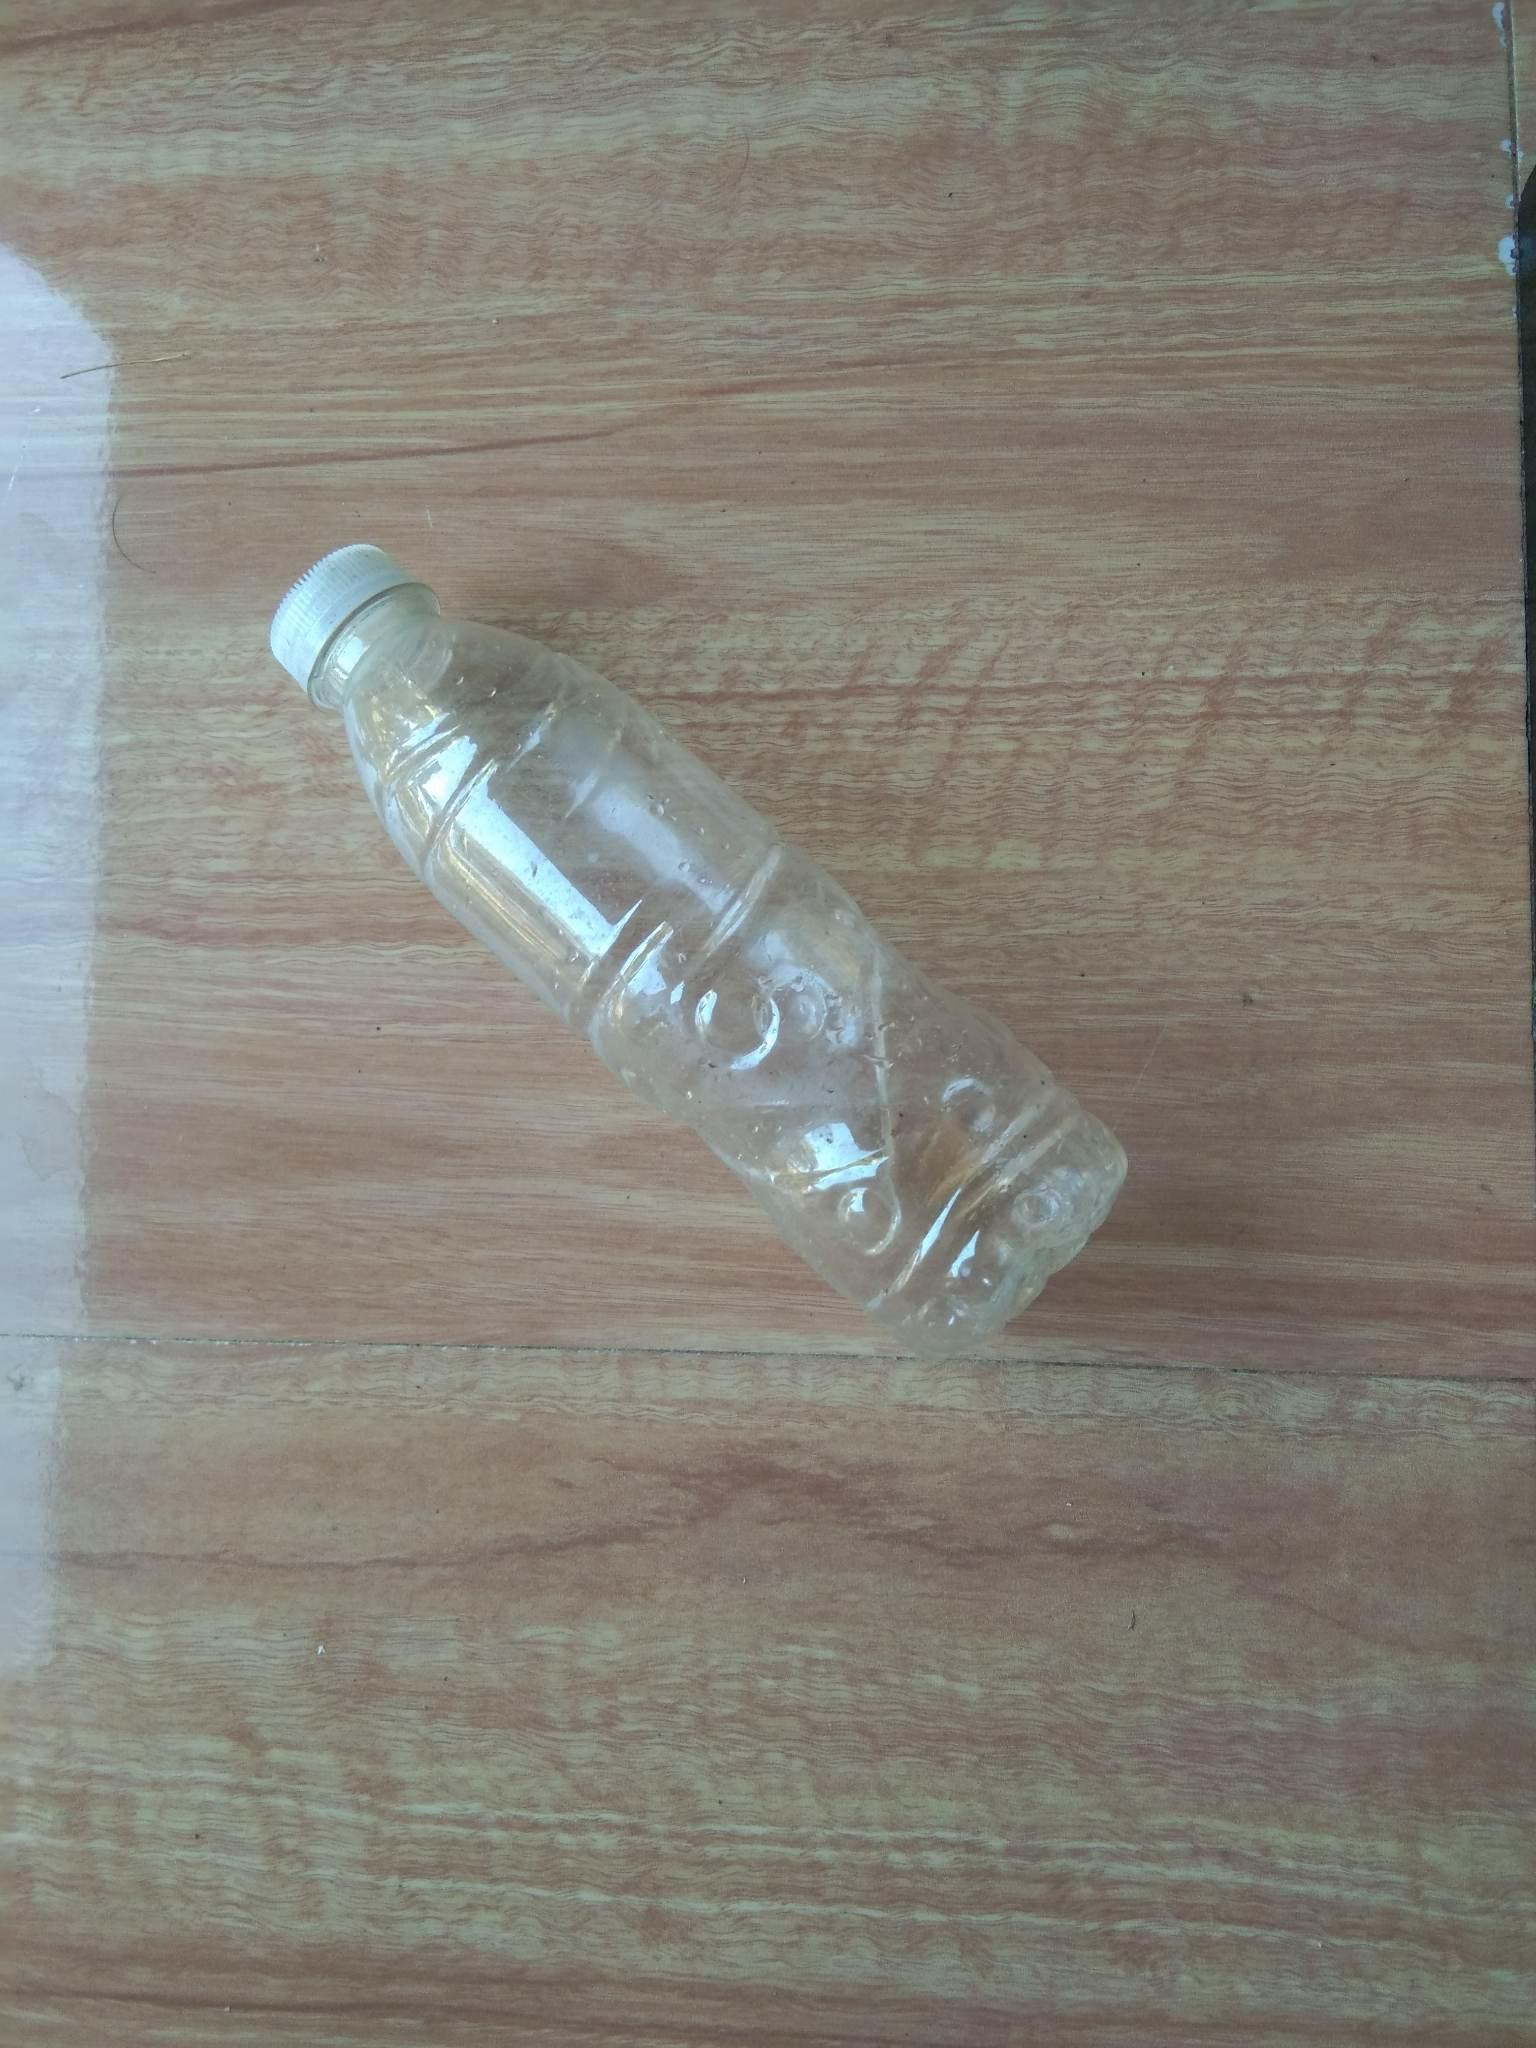plastic: (182, 476, 1133, 1408)
